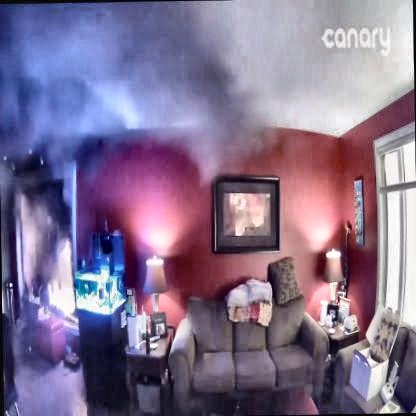smoke: (1, 3, 267, 174)
